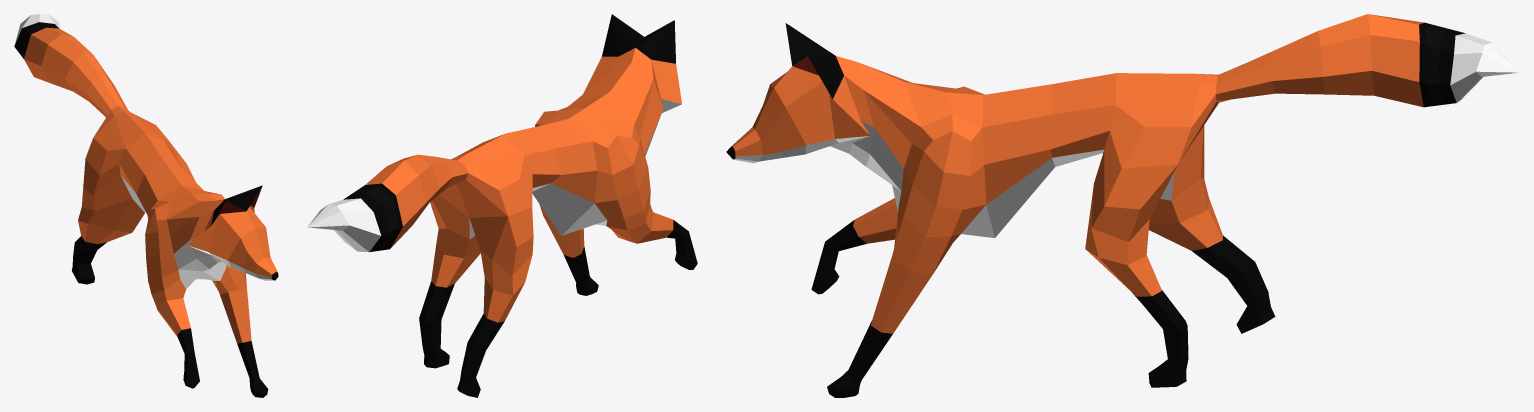
File: character5.glb
3 renders of one model, left to right at view 1: azimuth 30°, elevation 25°; view 2: azimuth 150°, elevation 25°; view 3: azimuth 270°, elevation 25°, orthographic. The views are drawn at different scales.
Parts seen in each view (by area): view 1: Fox_by_vladhad22@gmail.com; view 2: Fox_by_vladhad22@gmail.com; view 3: Fox_by_vladhad22@gmail.com.
Boxes of the visible parts, left/top/right/bottom form: Fox_by_vladhad22@gmail.com: left=14, top=14, right=278, bottom=397; Fox_by_vladhad22@gmail.com: left=307, top=14, right=697, bottom=397; Fox_by_vladhad22@gmail.com: left=726, top=14, right=1519, bottom=397.
Size of the model in its own units: 1.32 by 2.72 by 5.4.
1 material, 1 textured.
